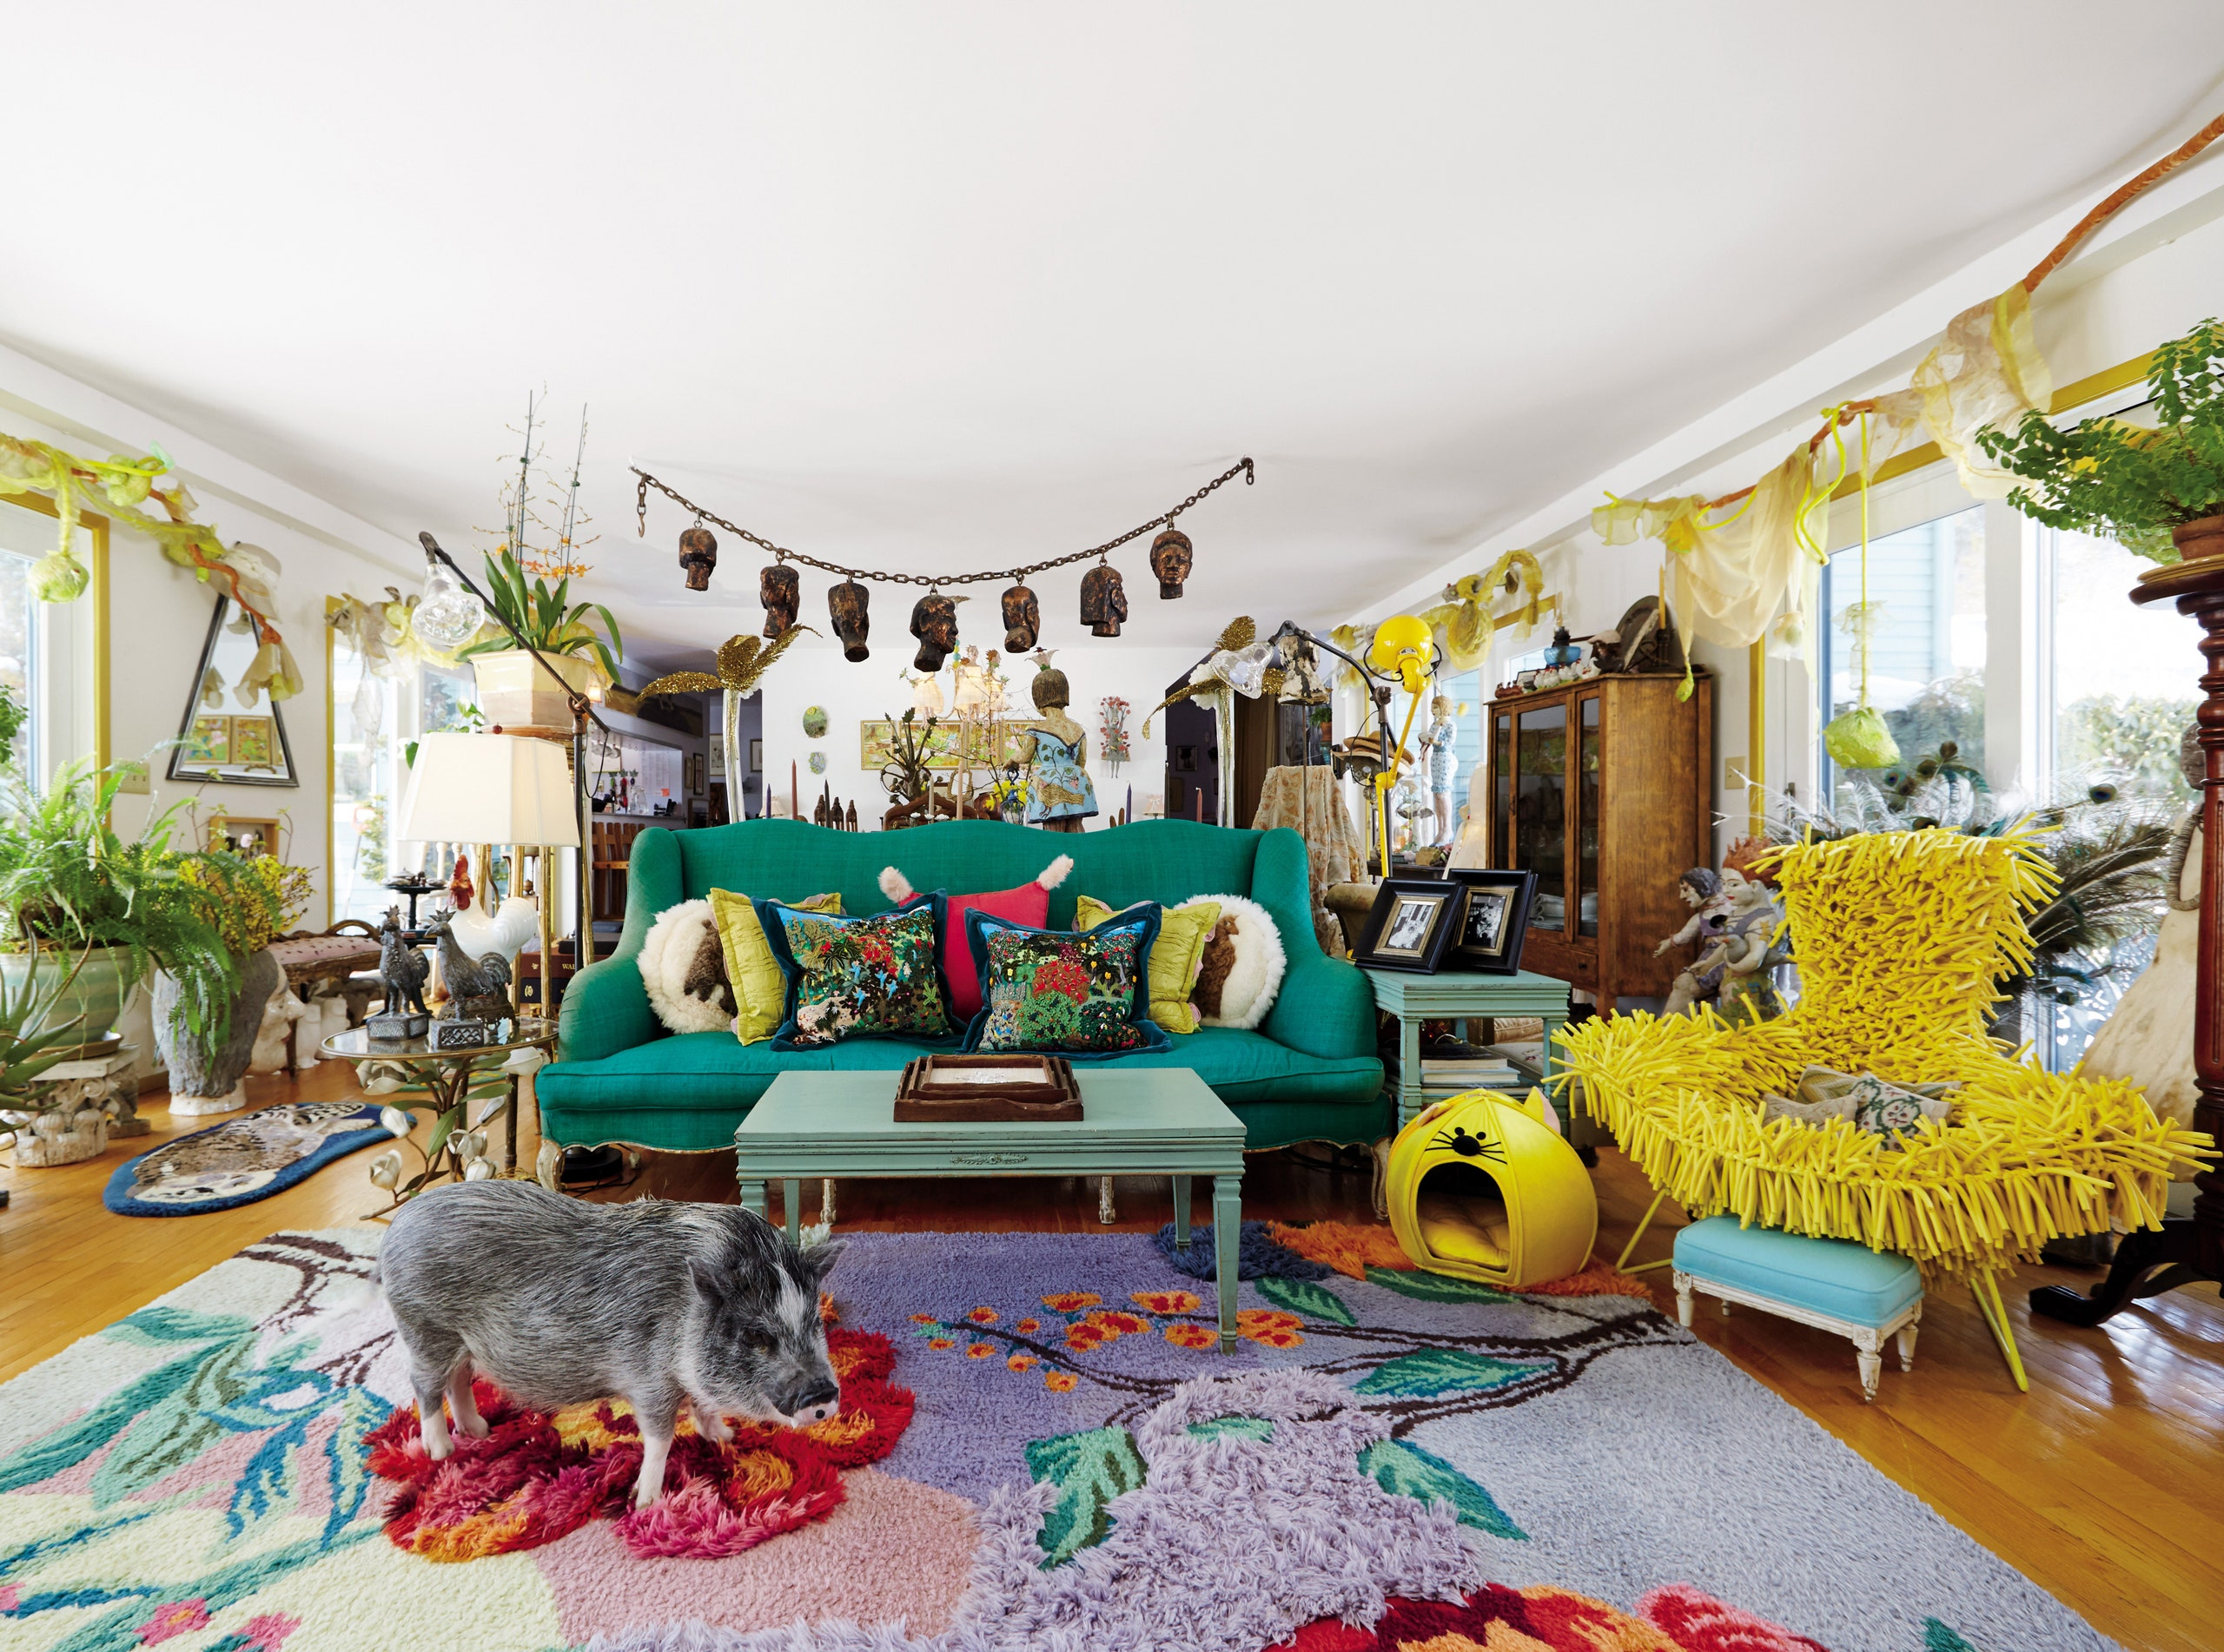biru: (1667, 1225, 1927, 1322)
hijau: (581, 823, 1376, 1152), (736, 1072, 1246, 1209)
hitam: (422, 920, 503, 1052), (375, 906, 428, 1041)
kuning: (1573, 840, 2172, 1218), (1386, 1095, 1603, 1301), (1364, 621, 1440, 696)
putih: (401, 720, 574, 852)
